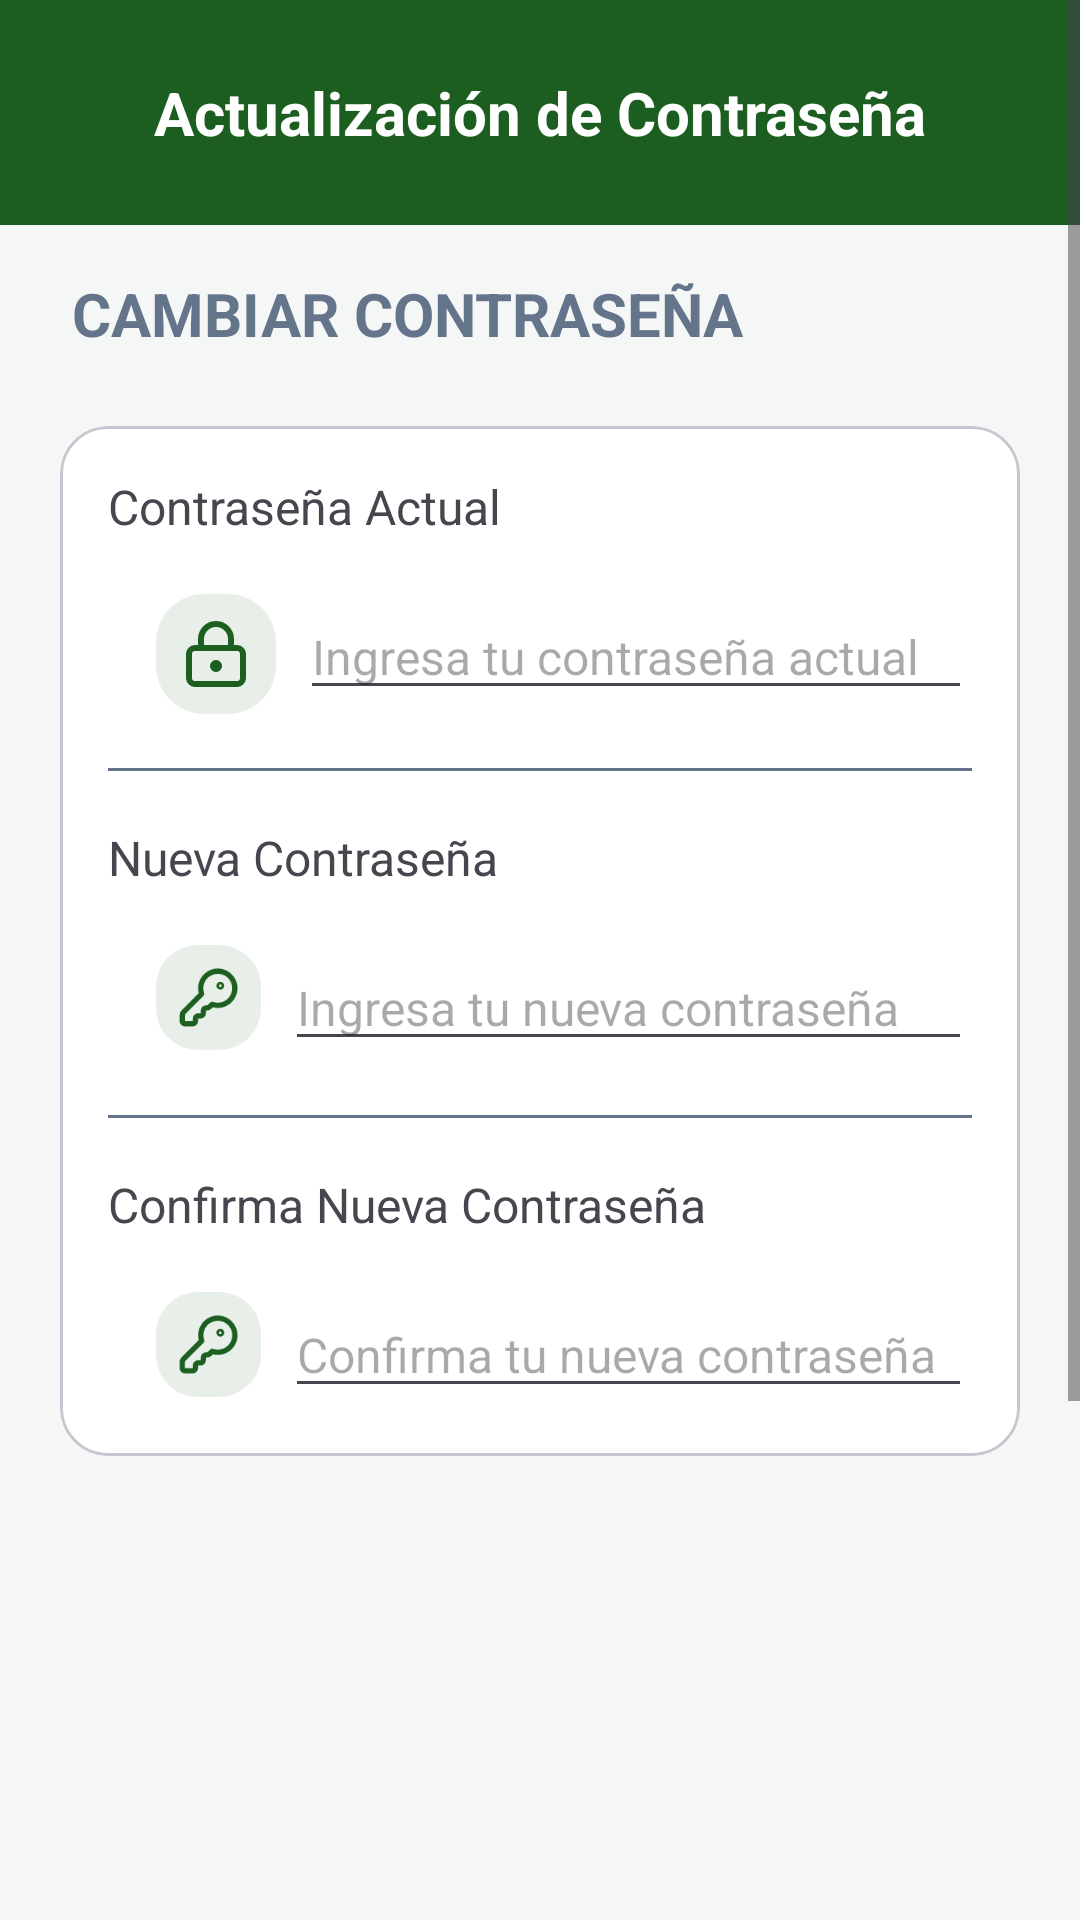

Icon bounding boxes for this 1080 × 1920 phone screenshot, format (x1, y1, x2, y2):
candado: (156, 594, 276, 714)
llave: (156, 945, 261, 1050), (156, 1292, 261, 1397)
